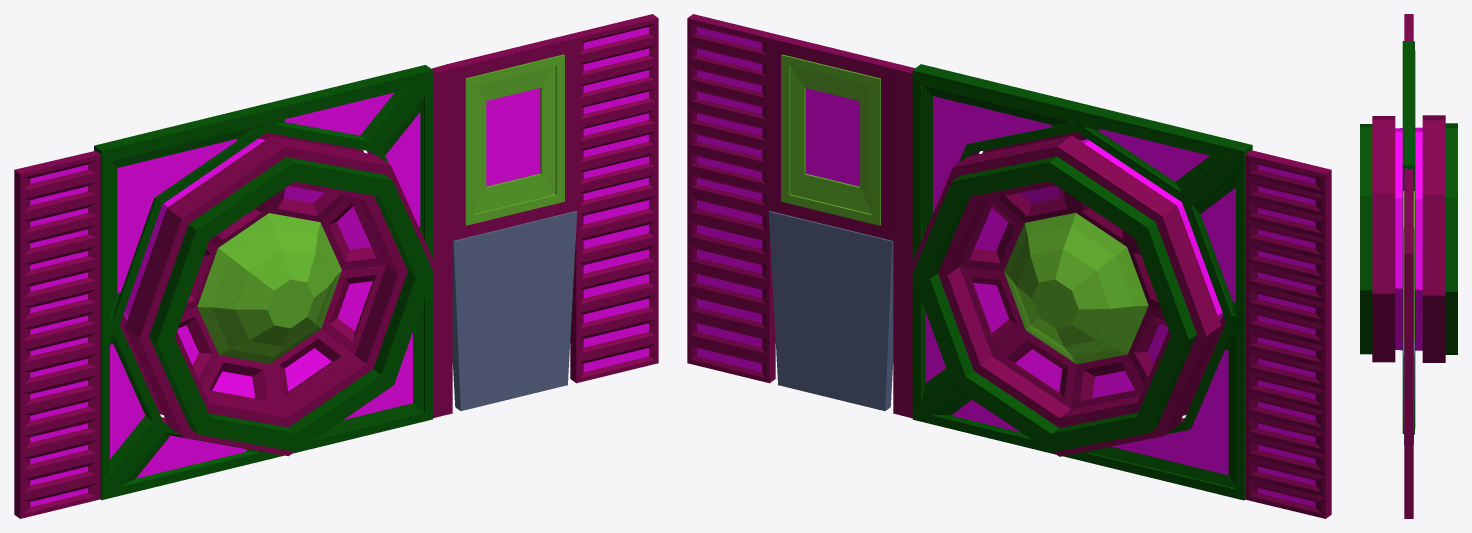
File: BaseGate.glb
3 views of the same model, side by side, from view 1: azimuth 30°, elevation 25°; view 2: azimuth 150°, elevation 25°; view 3: azimuth 270°, elevation 25° (orthographic). The views are drawn at different scales.
Parts seen in each view (by area): view 1: Cube, Cube.001, Cube.002; view 2: Cube, Cube.001, Cube.002; view 3: Cube.001, Cube, Cube.002.
Boxes of the visible parts, left/top/right/bottom form: Cube: left=14, top=14, right=658, bottom=518; Cube.001: left=120, top=132, right=435, bottom=456; Cube.002: left=452, top=211, right=577, bottom=410; Cube: left=687, top=14, right=1331, bottom=518; Cube.001: left=910, top=132, right=1225, bottom=456; Cube.002: left=768, top=211, right=893, bottom=410; Cube.001: left=1360, top=115, right=1457, bottom=362; Cube: left=1402, top=14, right=1415, bottom=518; Cube.002: left=1403, top=340, right=1414, bottom=444.
Bounding box in the file's own units: 13.95 × 7.3 × 2.4.
